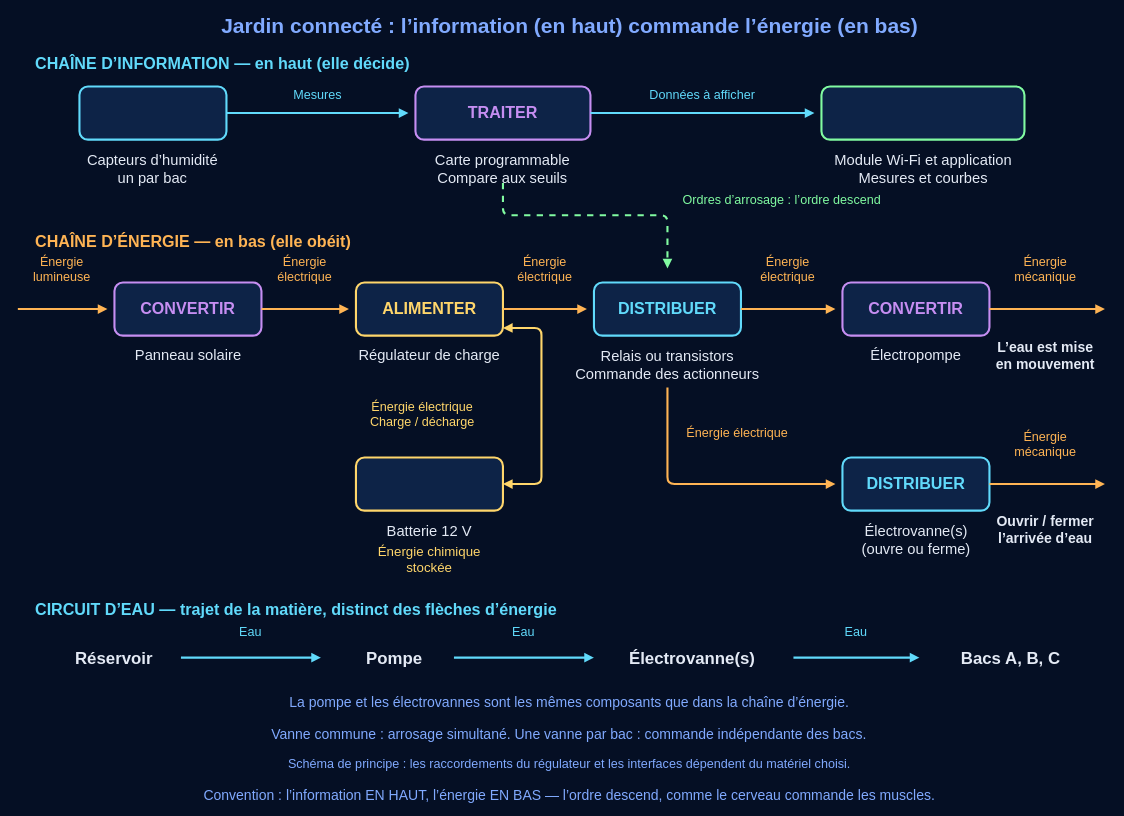
The diagram is 1124 pixels wide and 816 high, and some of its shapes have lost their labels. Here are the shapes that lost their labels. From the top down, the centre of each, then its label:
At point 152,112: "ACQUÉRIR".
At point 922,112: "COMMUNIQUER".
At point 429,483: "STOCKER".
